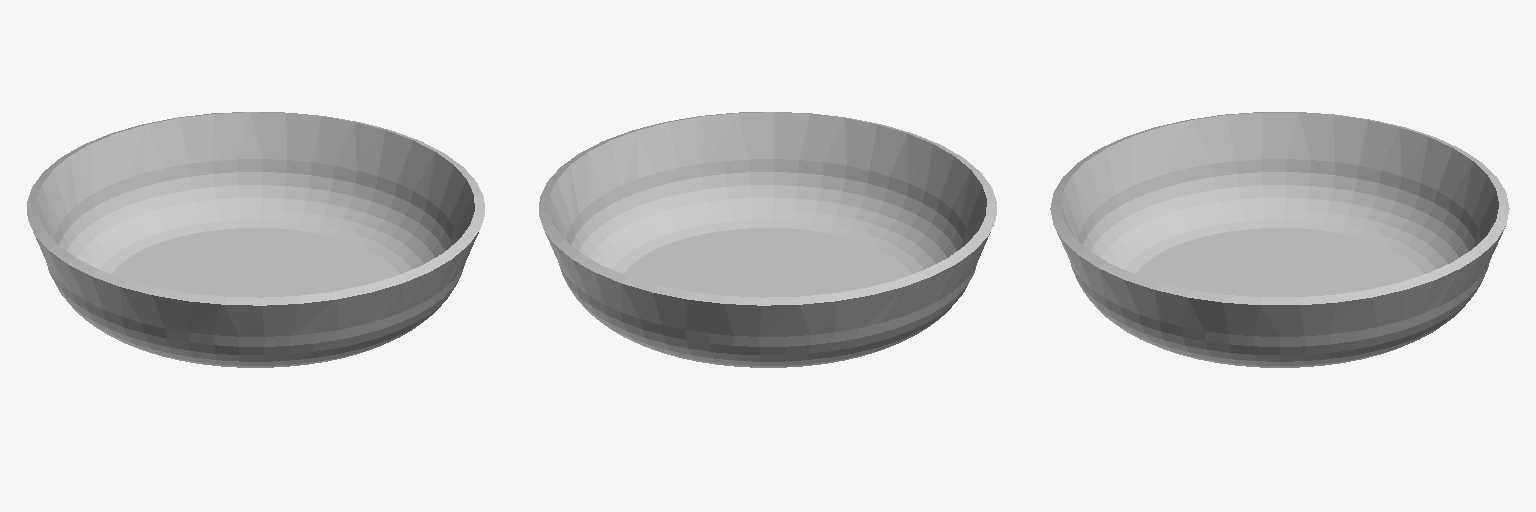
The model's file is bowl_6p25in.obj.
3 views of the same model, side by side, from view 1: azimuth 30°, elevation 25°; view 2: azimuth 150°, elevation 25°; view 3: azimuth 270°, elevation 25° (orthographic).
Size of the model in its own units: 167 by 41.11 by 168.